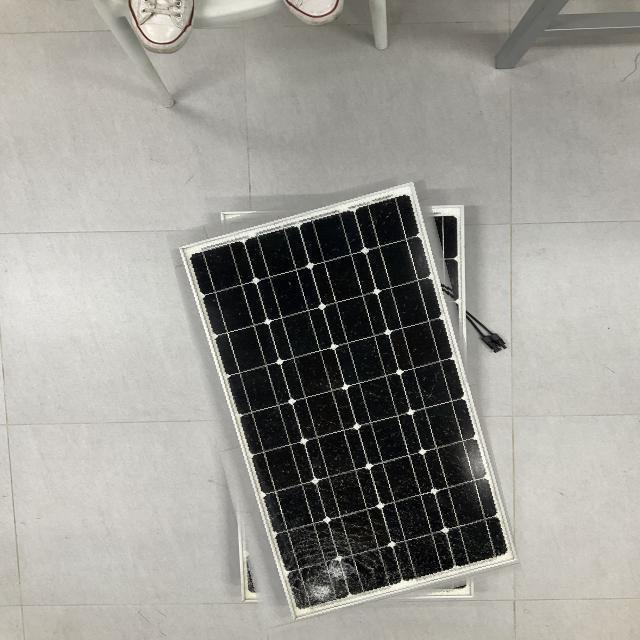Photovoltaic-Panel: (166, 162, 534, 634)
